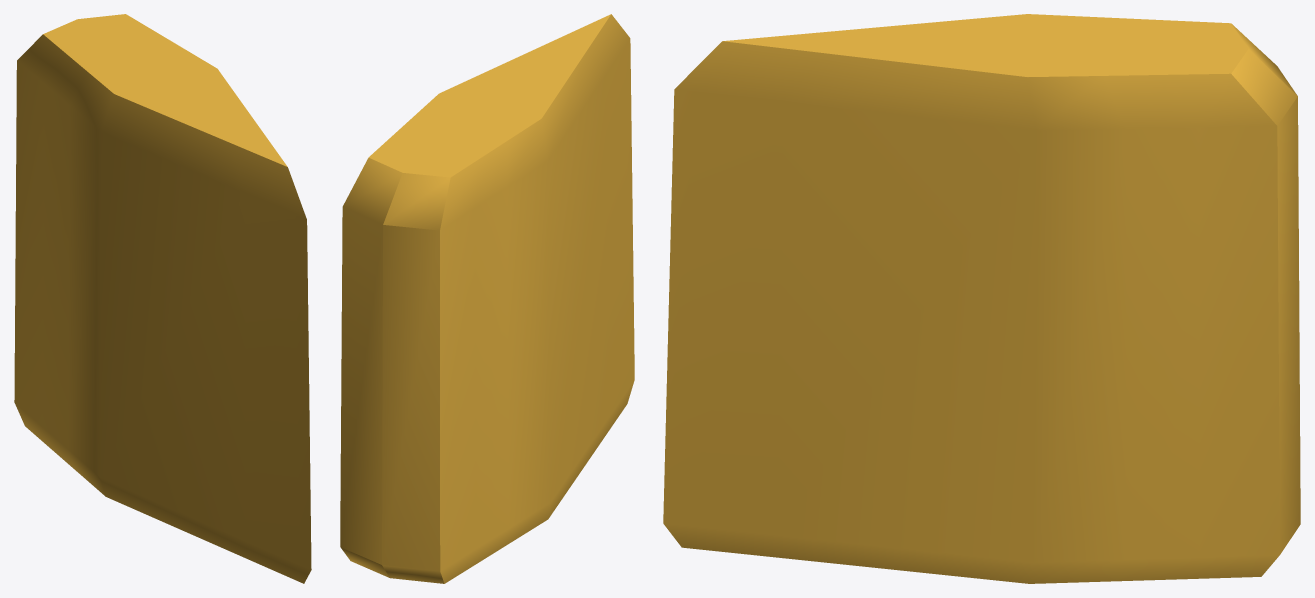
The model's file is Habaki.obj.
3 views of the same model, side by side, from view 1: azimuth 30°, elevation 25°; view 2: azimuth 150°, elevation 25°; view 3: azimuth 270°, elevation 25° (orthographic). The views are drawn at different scales.
Visible parts, largest first — view 1: Habaki; view 2: Habaki; view 3: Habaki.
Boxes of the visible parts, x1,y1,x2,y2 form: Habaki: (14, 14, 311, 583); Habaki: (340, 14, 634, 583); Habaki: (663, 14, 1300, 583).
Size of the model in its own units: 0.1377 by 0.4232 by 0.4824.
